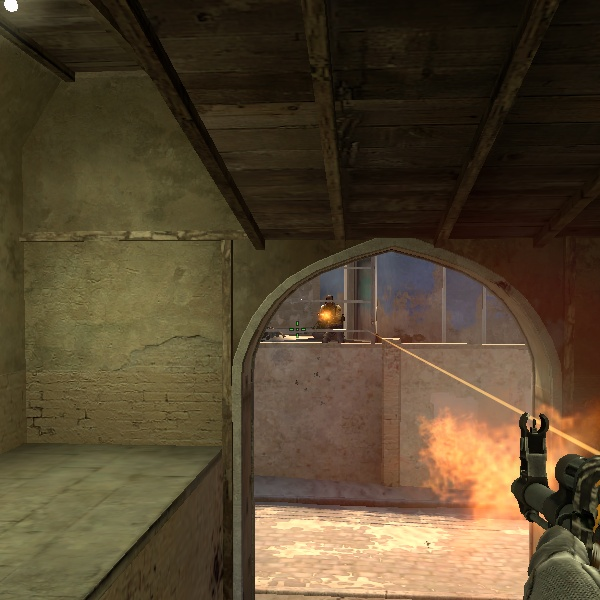t_body: (308, 292, 349, 333)
